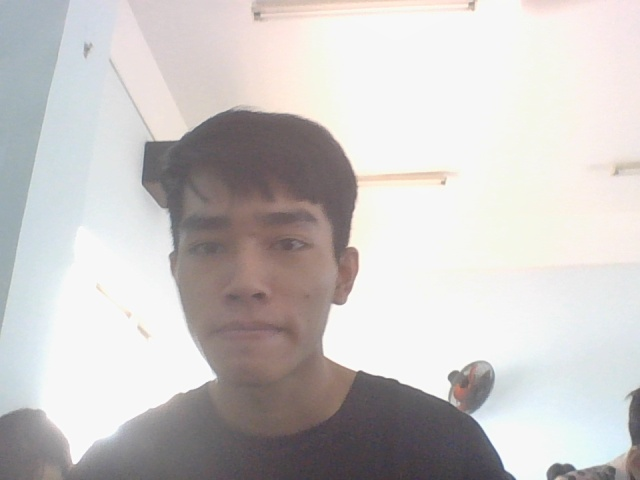real: (155, 96, 368, 398)
